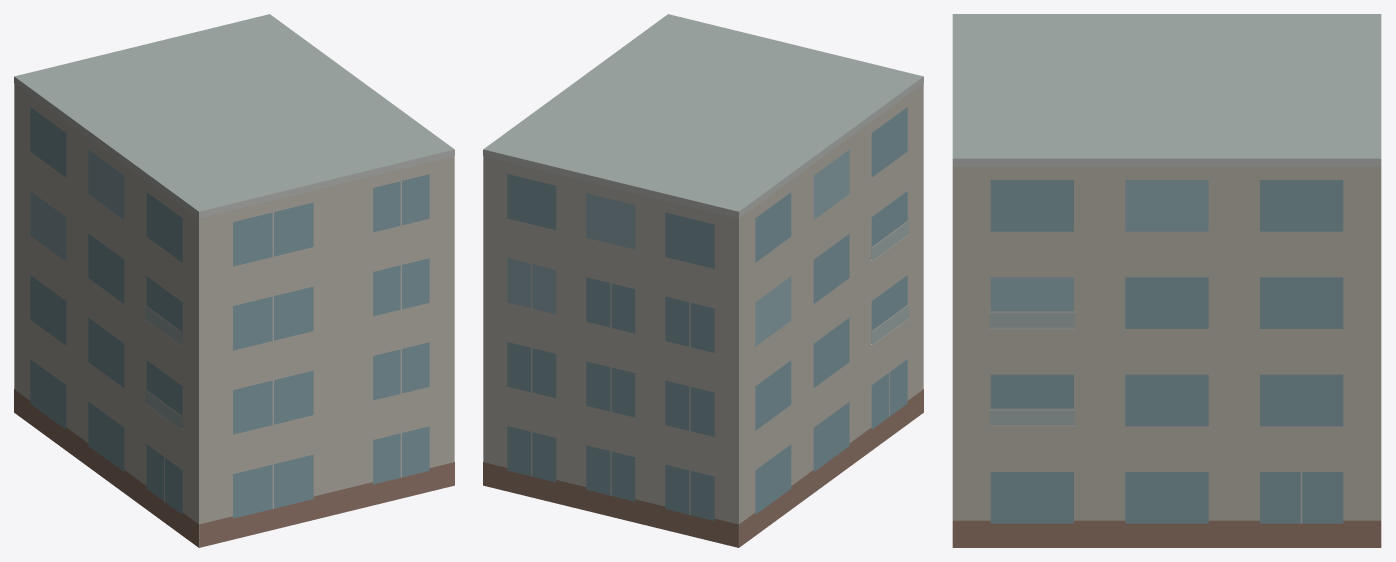
Rendered from residential-75d46a5b-38bd-4ad6-bb77-d4aae71d3772.glb.
The picture shows the model from 3 angles, left to right: view 1: azimuth 30°, elevation 25°; view 2: azimuth 150°, elevation 25°; view 3: azimuth 270°, elevation 25°; orthographic projection. The views are drawn at different scales.
Parts seen in each view (by area): view 1: residential-75d46a5b-38bd-4ad6-bb77-d4aae71d3772.tmp; view 2: residential-75d46a5b-38bd-4ad6-bb77-d4aae71d3772.tmp; view 3: residential-75d46a5b-38bd-4ad6-bb77-d4aae71d3772.tmp.
Part boxes in pixels (x1,y1,x2,y2): residential-75d46a5b-38bd-4ad6-bb77-d4aae71d3772.tmp: [14, 14, 454, 547]; residential-75d46a5b-38bd-4ad6-bb77-d4aae71d3772.tmp: [483, 14, 923, 547]; residential-75d46a5b-38bd-4ad6-bb77-d4aae71d3772.tmp: [952, 14, 1381, 547].
Bounding box in the file's own units: 9.79 × 12.2 × 12.19.
